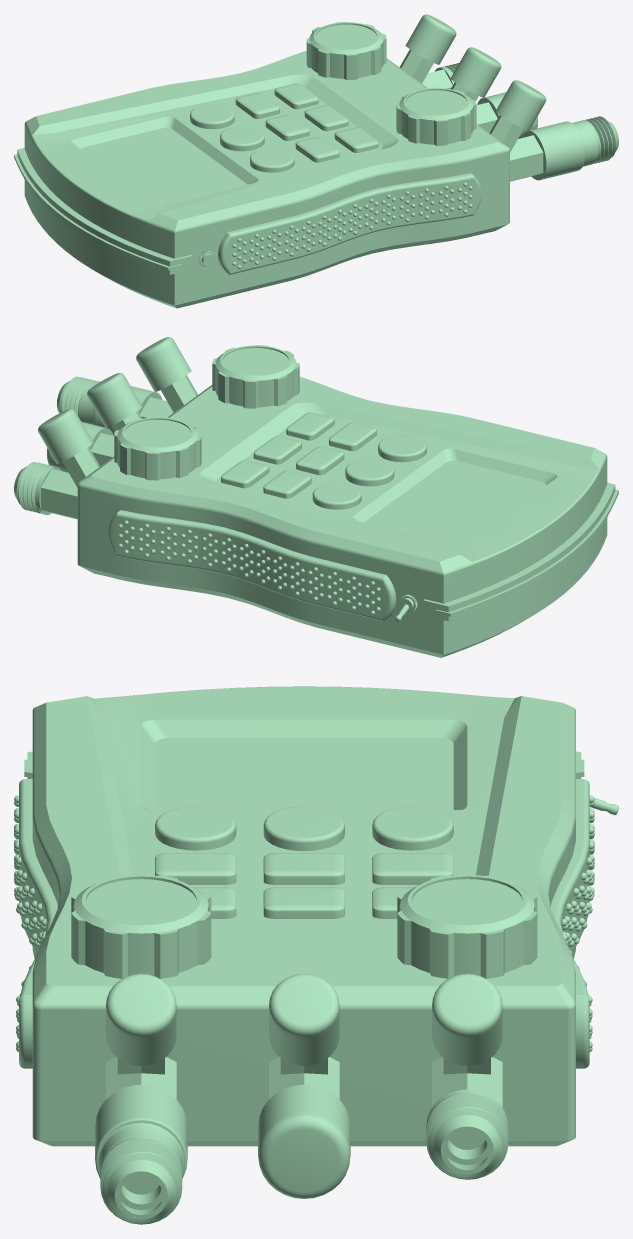
Rendered from MaintenanceGauge.fbx.
3 views of the same model, one above another, from view 1: azimuth 30°, elevation 25°; view 2: azimuth 150°, elevation 25°; view 3: azimuth 270°, elevation 25° (orthographic). The views are drawn at different scales.
Visible parts, largest first — view 1: Pressure Tester, Knob-1, Knob-2, Cap-Bigger-1, PressureTester-Valve-1, Cap-Smaller-2.001, Cap-Smaller-3, Cap-Smaller-2, PressureTester-Valve-3, PressureTester-Valve-2; view 2: Pressure Tester, Knob-1, Knob-2, PressureTester-Valve-3, Cap-Smaller-3, Cap-Smaller-2, Cap-Smaller-2.001, Cap-Bigger-1, PressureTester-Valve-1, PressureTester-Valve-2, Cap-Bigger-2; view 3: Pressure Tester, Knob-1, Knob-2, Cap-Bigger-1, Cap-Bigger-2, PressureTester-Valve-3, Cap-Smaller-2.001, Cap-Smaller-3, Cap-Smaller-2, PressureTester-Valve-2, PressureTester-Valve-1.
Part boxes in pixels (box(x1,y1,x2,y2)): Pressure Tester: box(14, 51, 509, 308); Knob-1: box(396, 87, 476, 145); Knob-2: box(306, 22, 386, 79); Cap-Bigger-1: box(522, 116, 618, 180); PressureTester-Valve-1: box(489, 115, 543, 181); Cap-Smaller-2.001: box(450, 47, 501, 97); Cap-Smaller-3: box(405, 14, 456, 64); Cap-Smaller-2: box(495, 80, 546, 130); PressureTester-Valve-3: box(399, 49, 458, 89); PressureTester-Valve-2: box(451, 82, 497, 132); Pressure Tester: box(77, 377, 618, 657); Knob-1: box(212, 345, 299, 408); Knob-2: box(114, 417, 201, 480); PressureTester-Valve-3: box(14, 447, 99, 519); Cap-Smaller-3: box(38, 409, 93, 463); Cap-Smaller-2: box(136, 337, 191, 391); Cap-Smaller-2.001: box(87, 373, 142, 427); Cap-Bigger-1: box(56, 376, 162, 435); PressureTester-Valve-1: box(140, 375, 197, 418); PressureTester-Valve-2: box(91, 411, 141, 466); Cap-Bigger-2: box(47, 422, 113, 472); Pressure Tester: box(14, 686, 594, 1146); Knob-1: box(71, 875, 211, 978); Knob-2: box(397, 875, 537, 978); Cap-Bigger-1: box(95, 1084, 187, 1224); Cap-Bigger-2: box(258, 1084, 350, 1198); PressureTester-Valve-3: box(426, 1057, 508, 1179); Cap-Smaller-2.001: box(269, 973, 339, 1065); Cap-Smaller-3: box(432, 973, 502, 1065); Cap-Smaller-2: box(106, 973, 176, 1065); PressureTester-Valve-2: box(269, 1057, 339, 1099); PressureTester-Valve-1: box(106, 1057, 176, 1099).
Bounding box in the file's own units: 38.69 × 9 × 22.27.
